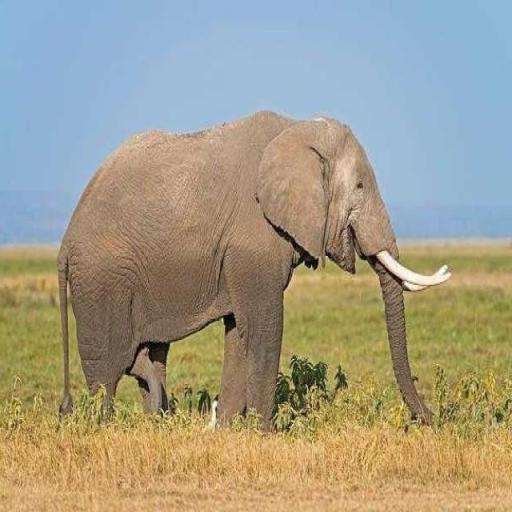Elephant: (56, 108, 452, 434)
